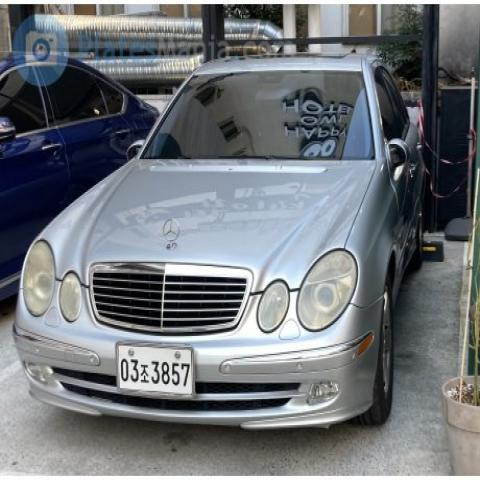LP: (107, 334, 204, 409)
